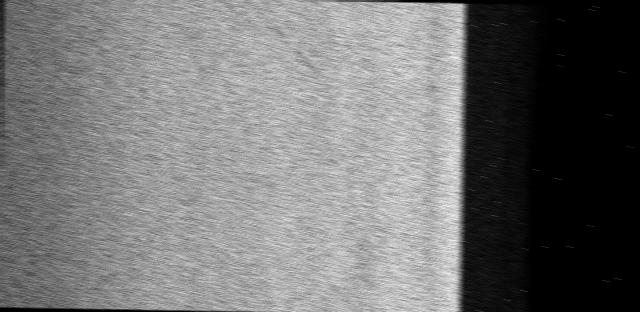water_spot: (202, 0, 333, 89)
